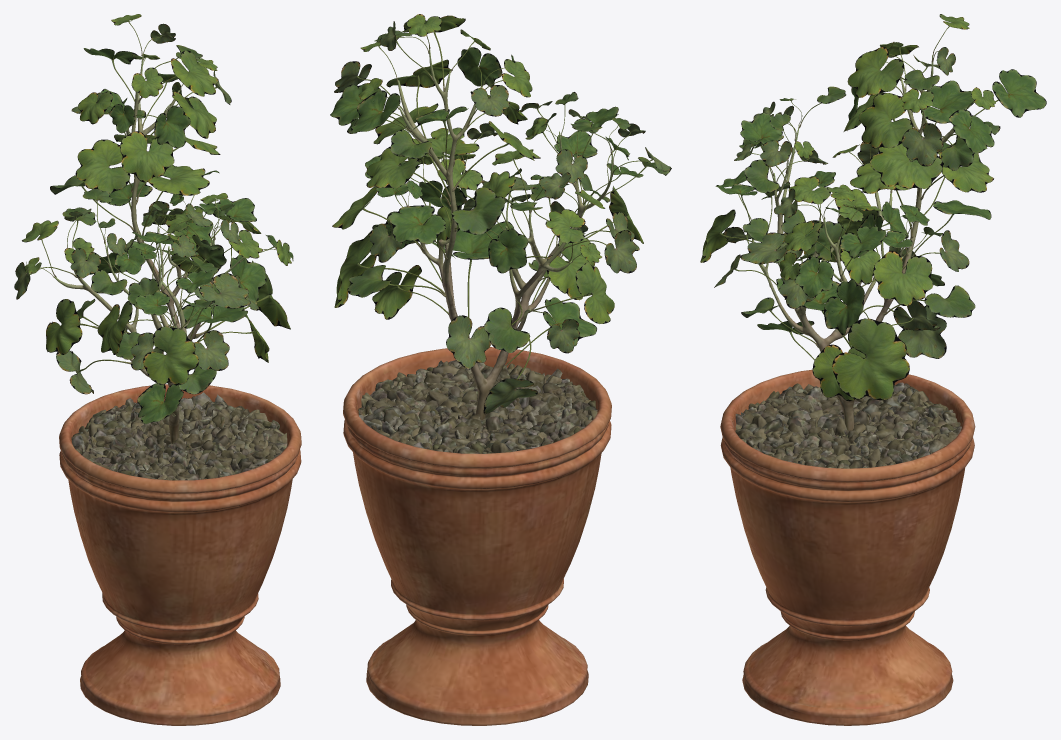
The model's file is plant-potted.glb.
3 views of the same model, side by side, from view 1: azimuth 30°, elevation 25°; view 2: azimuth 150°, elevation 25°; view 3: azimuth 270°, elevation 25° (orthographic). The views are drawn at different scales.
Parts seen in each view (by area): view 1: potted_plant_01_stem, potted_plant_01_leaves; view 2: potted_plant_01_stem, potted_plant_01_leaves; view 3: potted_plant_01_stem, potted_plant_01_leaves.
Part boxes in pixels (<box>): potted_plant_01_stem: <box>54,54,301,725</box>; potted_plant_01_leaves: <box>14,14,293,423</box>; potted_plant_01_stem: <box>343,49,612,725</box>; potted_plant_01_leaves: <box>330,14,671,414</box>; potted_plant_01_stem: <box>720,55,975,725</box>; potted_plant_01_leaves: <box>700,14,1046,401</box>.
Bounding box in the file's own units: 0.5874 × 1.34 × 0.6336.
Materials: 2 (2 with a texture image).
